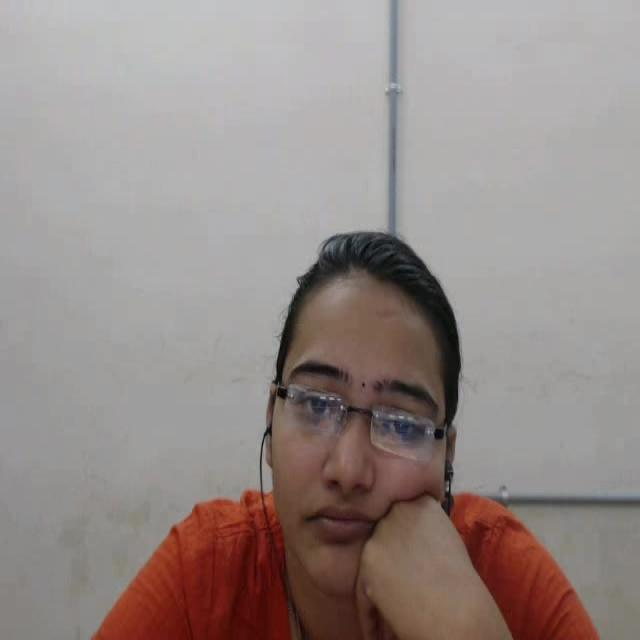Bored: (236, 215, 498, 635)
